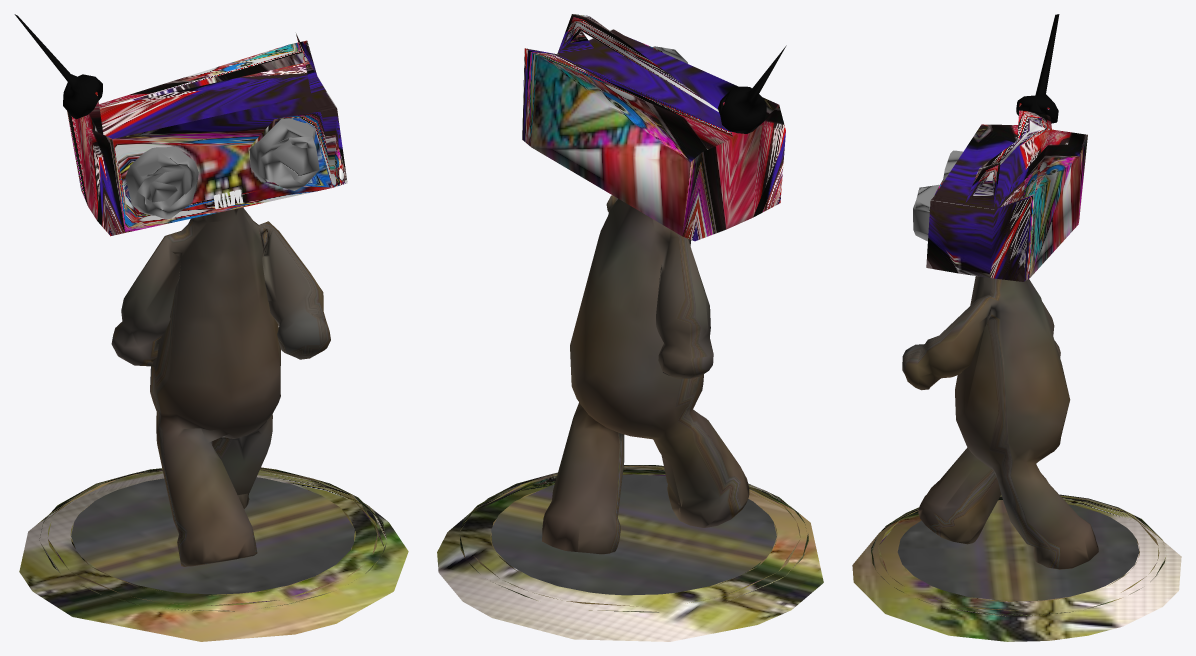
3 views of the same model, side by side, from view 1: azimuth 30°, elevation 25°; view 2: azimuth 150°, elevation 25°; view 3: azimuth 270°, elevation 25° (orthographic). The views are drawn at different scales.
Size of the model in its own units: 1.47 by 2.32 by 1.43.
7 materials, 4 textured.
